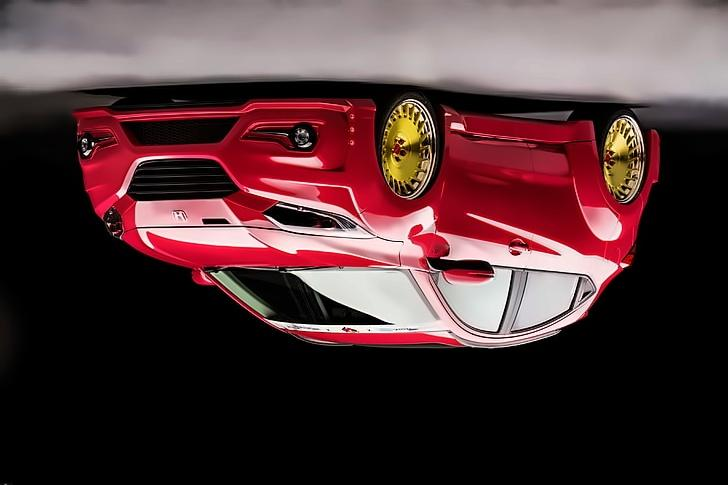Front bumper: (66, 90, 390, 204)
Headlight - -L-: (94, 200, 135, 244)
